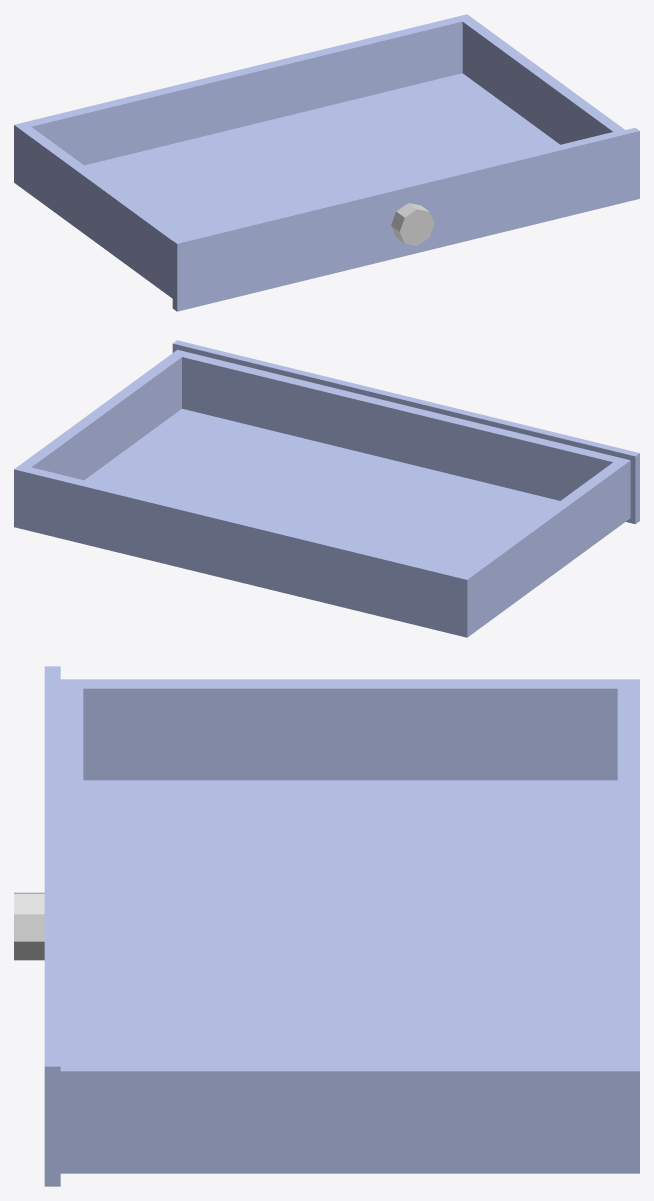
Rendered from K_DrawerBlueDoor1.glb.
3 renders of one model, top to bottom at view 1: azimuth 30°, elevation 25°; view 2: azimuth 150°, elevation 25°; view 3: azimuth 270°, elevation 25°, orthographic. The views are drawn at different scales.
Parts seen in each view (by area): view 1: Kitchen_DrawerBigDoor1; view 2: Kitchen_DrawerBigDoor1; view 3: Kitchen_DrawerBigDoor1.
Boxes of the visible parts, <box> form: Kitchen_DrawerBigDoor1: <box>14,14,639,311</box>; Kitchen_DrawerBigDoor1: <box>14,340,639,637</box>; Kitchen_DrawerBigDoor1: <box>14,666,639,1186</box>.
Size of the model in its own units: 1.4 by 0.1967 by 0.9285.
